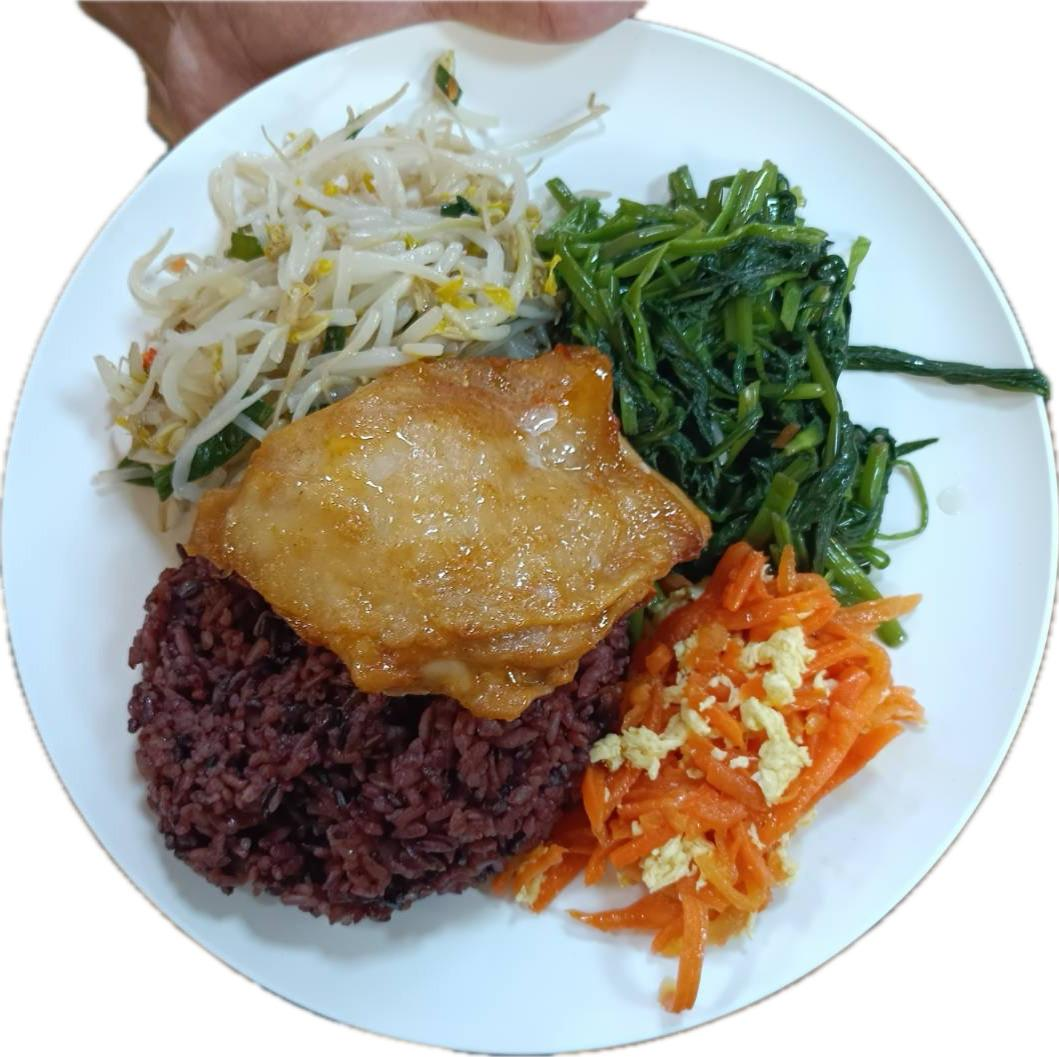big fried chicken leg: (5, 16, 1053, 1057)
braised fish: (111, 548, 633, 926)
braised fish fillet: (107, 70, 606, 500), (513, 548, 906, 1018), (550, 150, 899, 618)
braised pork: (175, 330, 713, 710)
